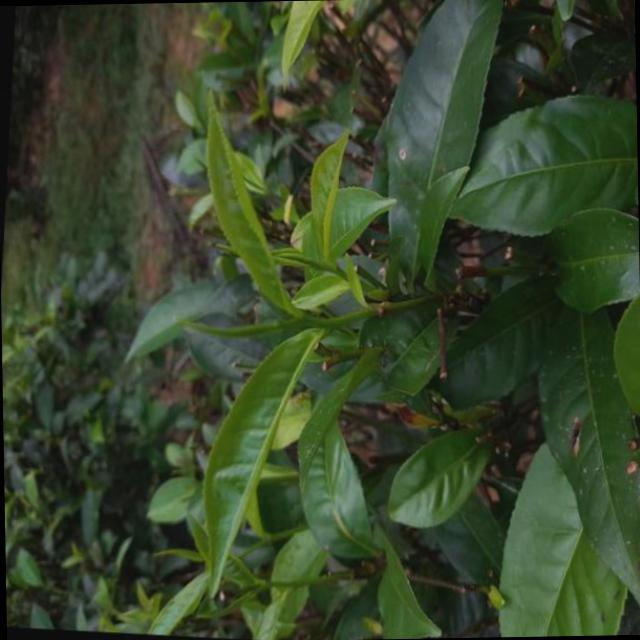Stem: (305, 315, 314, 324), (334, 267, 340, 274), (265, 581, 273, 586)
